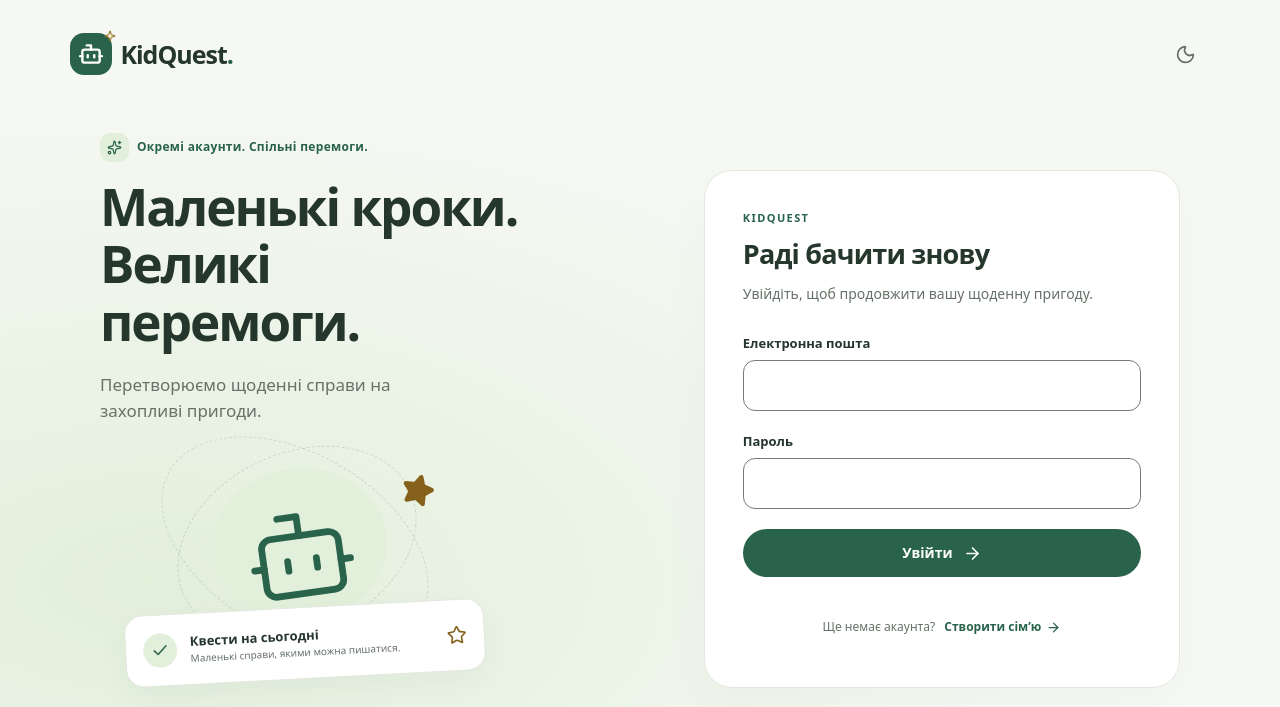
Scenario: Ukrainian authentication flow › shows a failed login without creating an authenticated session
The width and height of the screenshot is (1280, 707).
In the field labelled "Електронна пошта": (942,386) [743, 360, 1141, 411], type "olena@example.test"
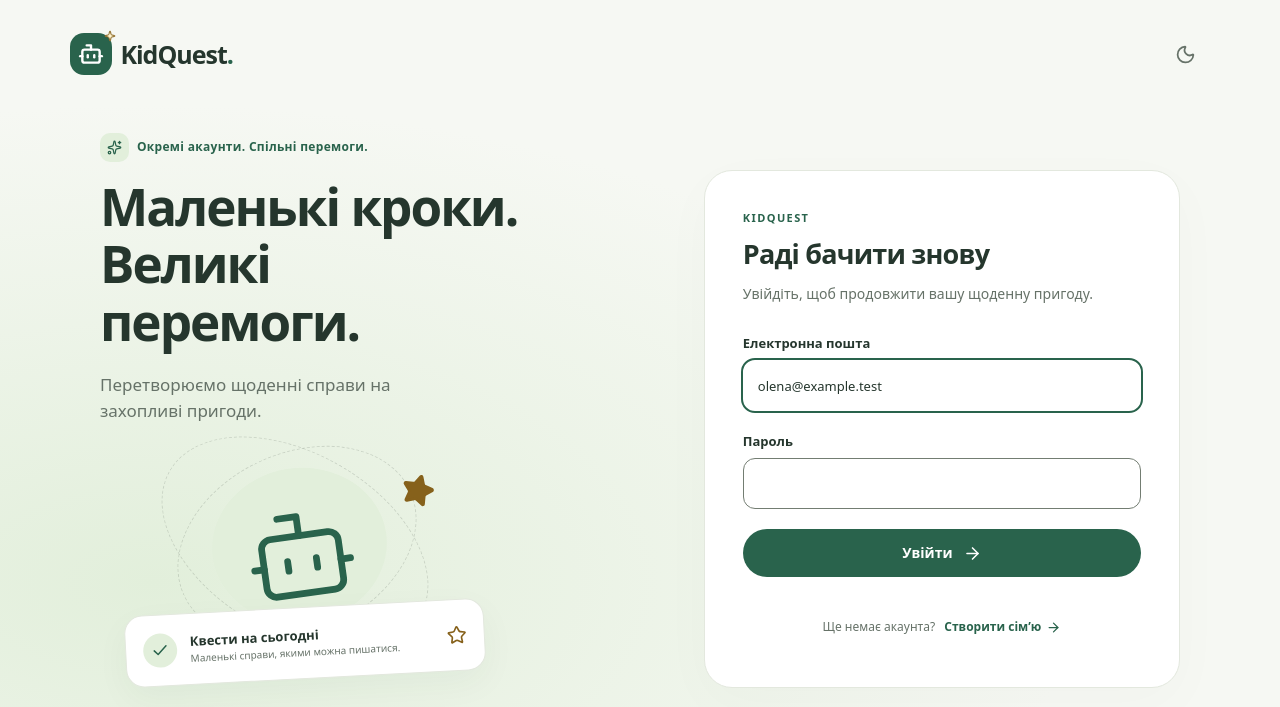
In the password field labelled "Пароль": (942,484) [743, 458, 1141, 509], type "wrong-password"
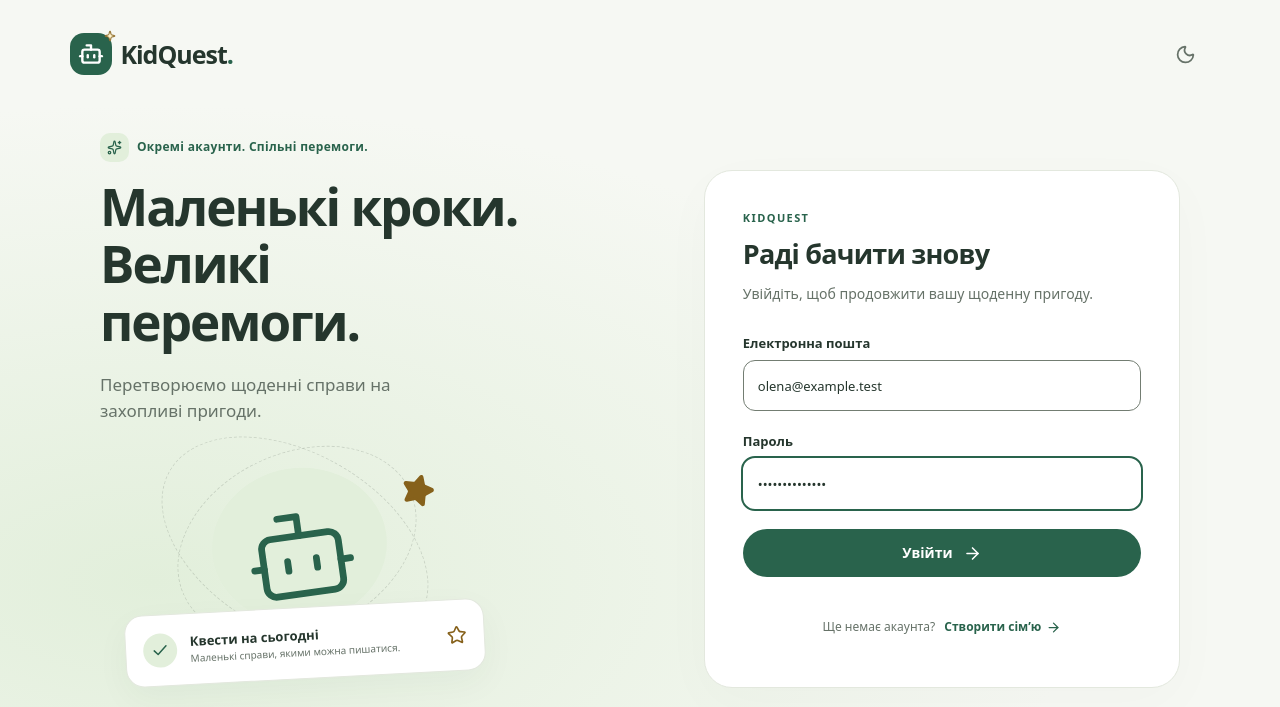
Click the button "Увійти": (942,553) [743, 529, 1141, 577]
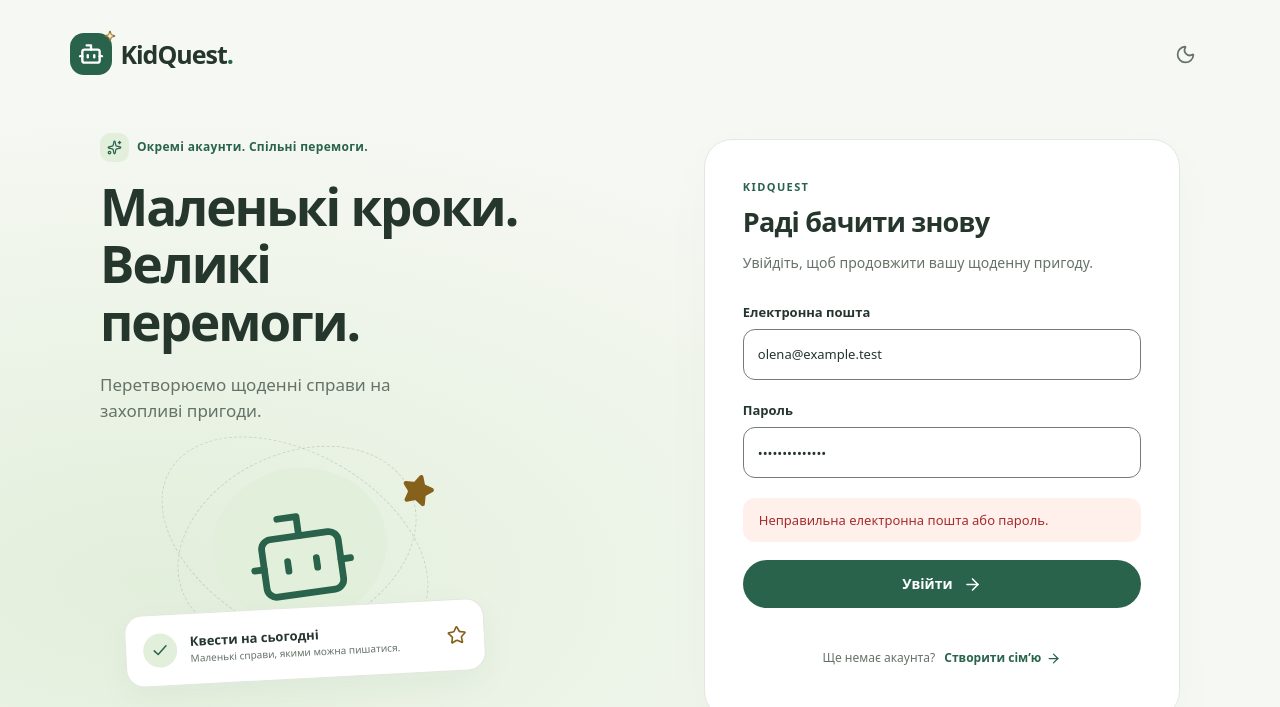
Expected: the button "Увійти" is enabled, [743, 560, 1141, 608]
Result: the message reads "Неправильна електронна пошта або пароль." at [759, 511, 1048, 529]
